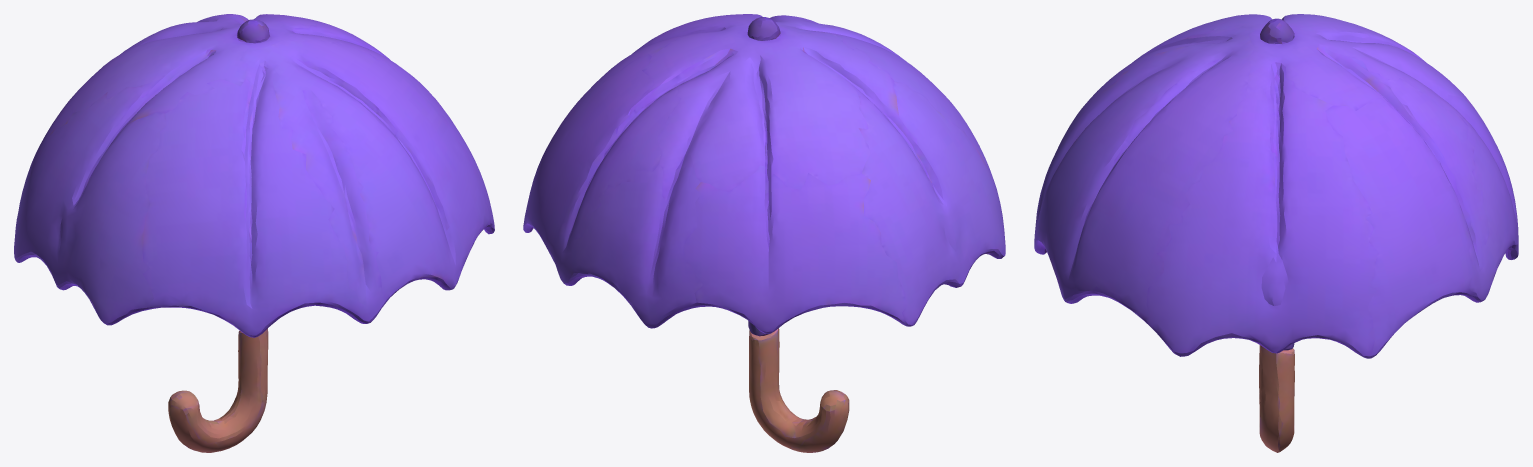
Rendered from umbrella.glb.
The picture shows the model from 3 angles, left to right: view 1: azimuth 30°, elevation 25°; view 2: azimuth 150°, elevation 25°; view 3: azimuth 270°, elevation 25°; orthographic projection. The views are drawn at different scales.
Parts seen in each view (by area): view 1: Mesh; view 2: Mesh; view 3: Mesh.
Part boxes in pixels (x1,y1,x2,y2): Mesh: [14, 14, 494, 452]; Mesh: [523, 14, 1005, 452]; Mesh: [1034, 14, 1518, 452].
Bounding box in the file's own units: 0.9795 × 1 × 0.9879.
1 material, 1 textured.
